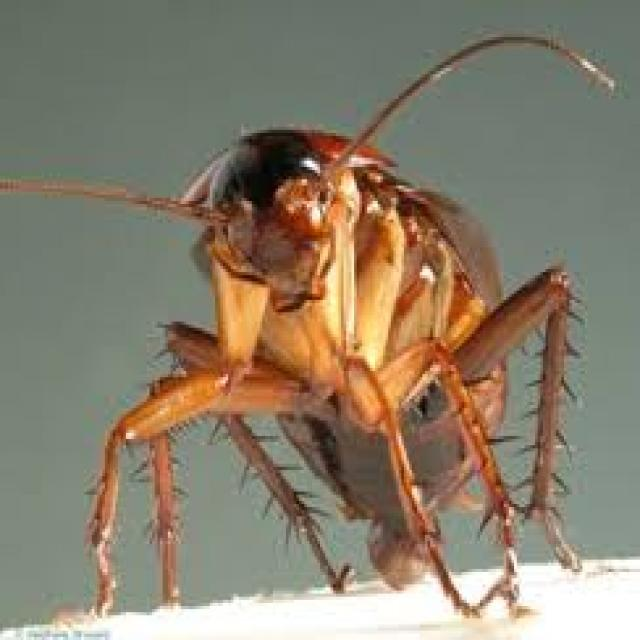Cockroach: (74, 29, 598, 625)
